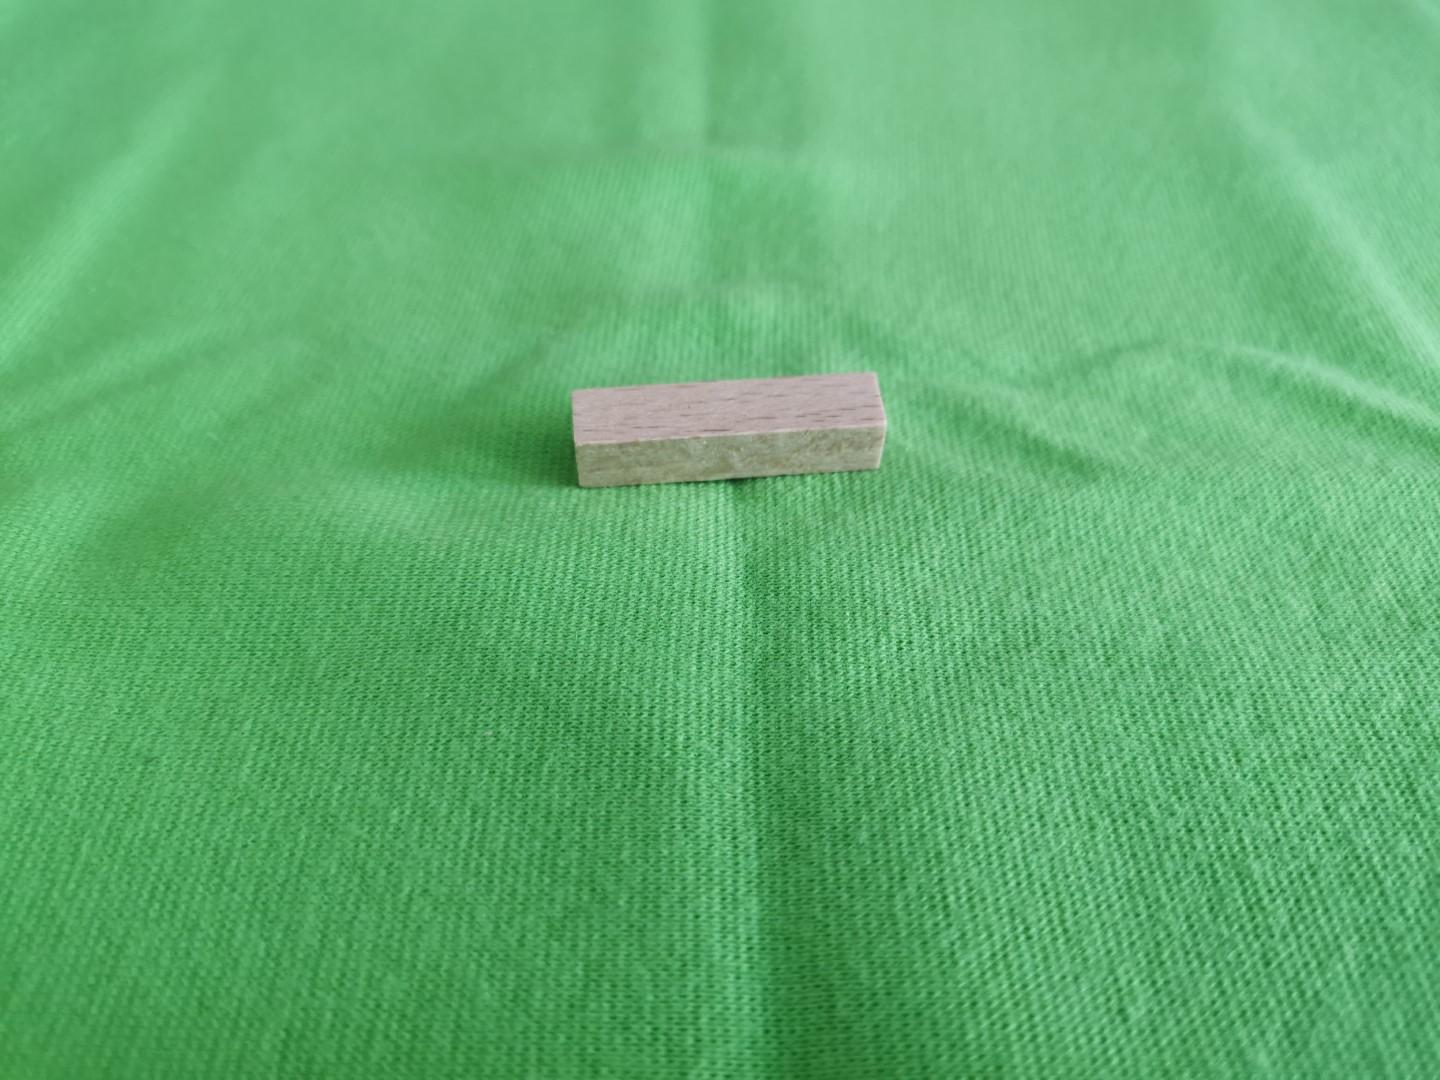jenga: (571, 371, 888, 487)
